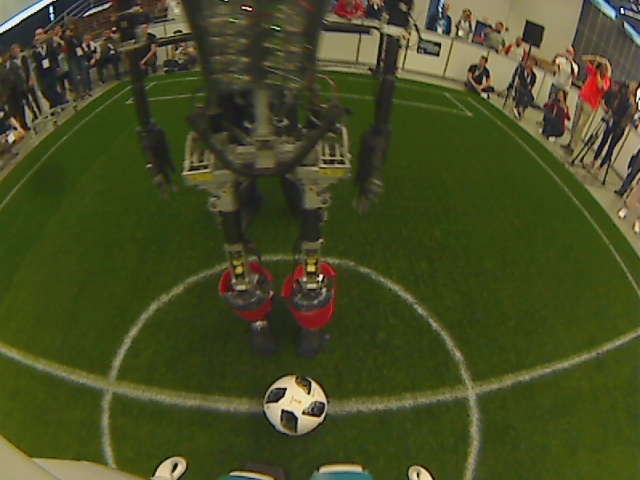ball: (260, 372, 332, 439)
